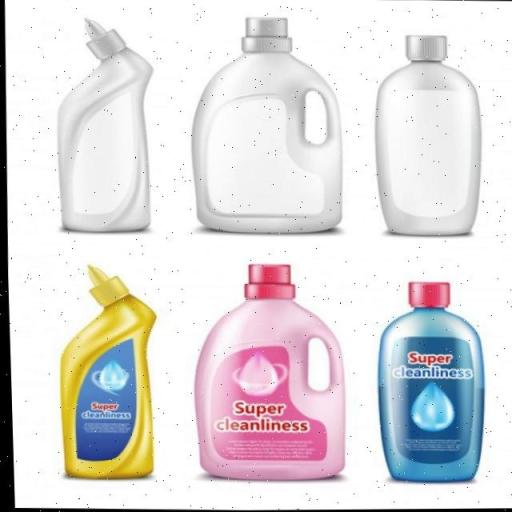plastic: (178, 243, 372, 511), (171, 0, 370, 253), (0, 0, 182, 245), (18, 242, 186, 503), (354, 252, 512, 510), (357, 0, 512, 262)
